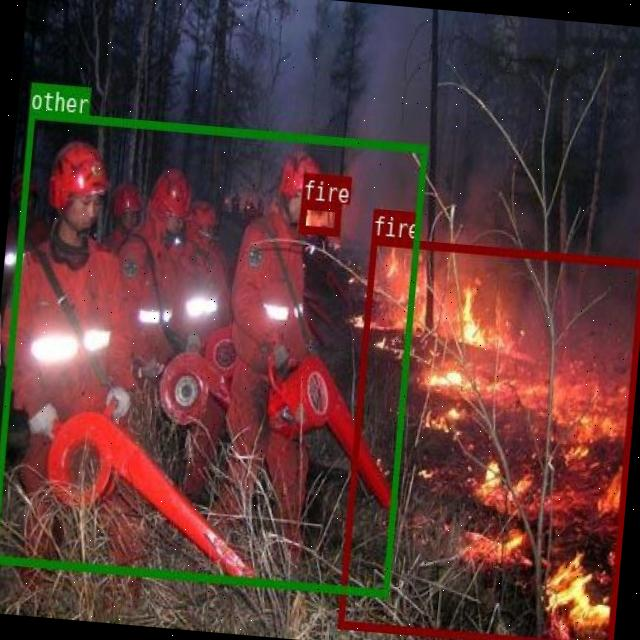fire: (336, 236, 640, 640), (298, 200, 340, 235)
